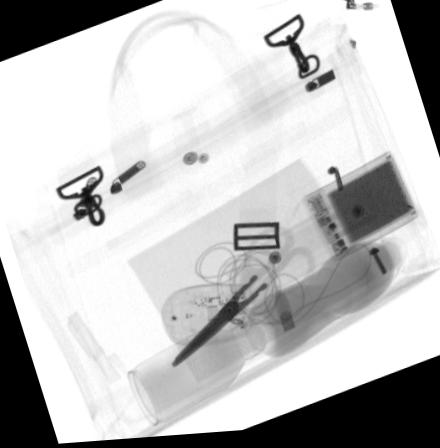Powerbank: (301, 157, 422, 269)
Scissors: (170, 226, 315, 372)
